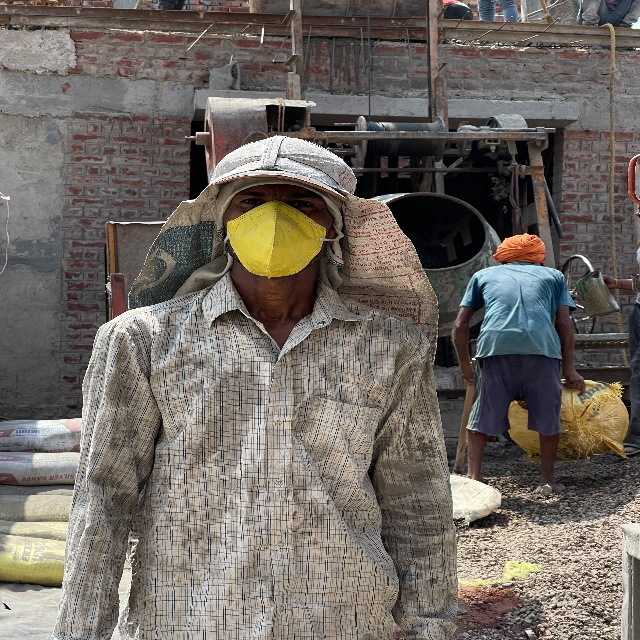Mascara: (226, 199, 328, 283)
Sin_guantes: (562, 366, 587, 393), (461, 363, 475, 387)
